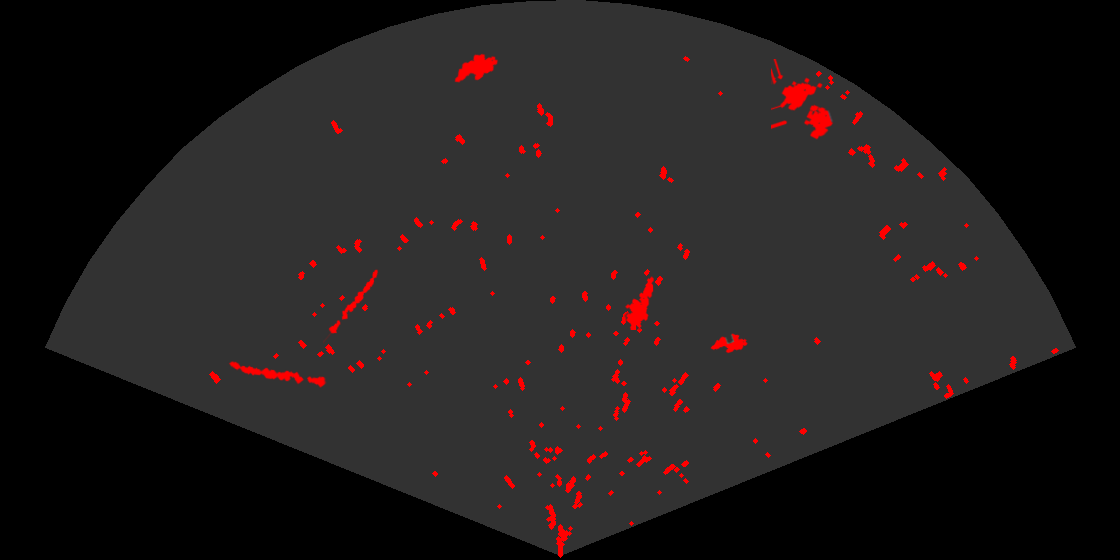AUV: (453, 52, 500, 84), (709, 332, 749, 355)
cage: (771, 59, 835, 141)
chain: (323, 268, 380, 344), (227, 360, 327, 389)
frogman: (623, 276, 655, 330)
